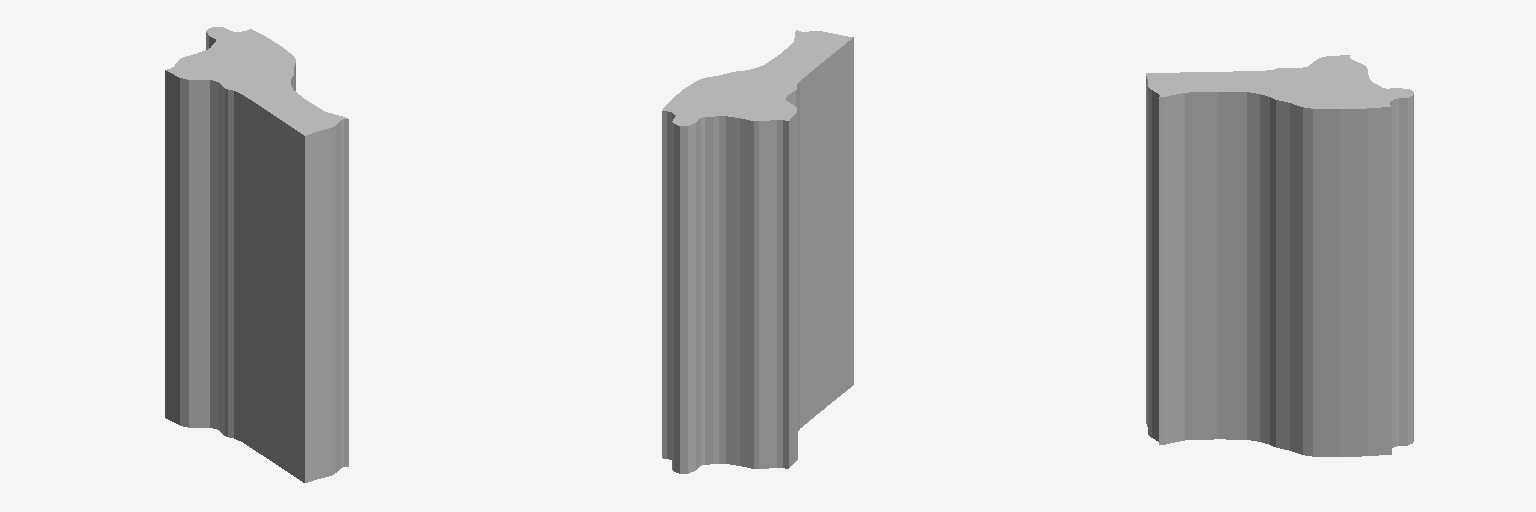
3 renders of one model, left to right at view 1: azimuth 30°, elevation 25°; view 2: azimuth 150°, elevation 25°; view 3: azimuth 270°, elevation 25°, orthographic.
Parts seen in each view (by area): view 1: BJ.002_CUCurve.1865; view 2: BJ.002_CUCurve.1865; view 3: BJ.002_CUCurve.1865.
Boxes of the visible parts, <box> form: BJ.002_CUCurve.1865: <box>165,27,348,482</box>; BJ.002_CUCurve.1865: <box>662,30,853,473</box>; BJ.002_CUCurve.1865: <box>1146,55,1413,456</box>.
Bounding box in the file's own units: 0.0168 × 0.05 × 0.035.